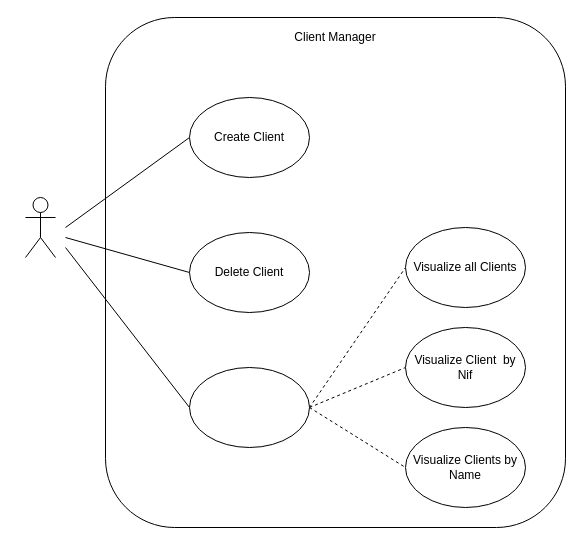
Some shapes in this 583 by 545 pixel diagram are drawn without their labels. Here are the shapes that lost their labels. From the top down, the centre of each, then its label:
point 40,227: Manager
point 249,407: Visualize Clients
